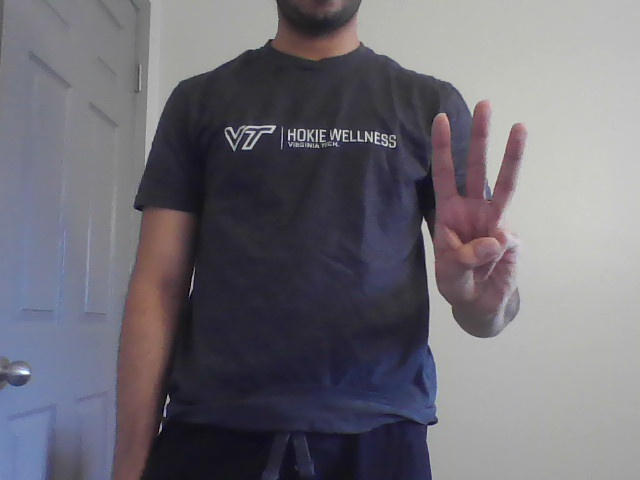three: (423, 96, 529, 314)
